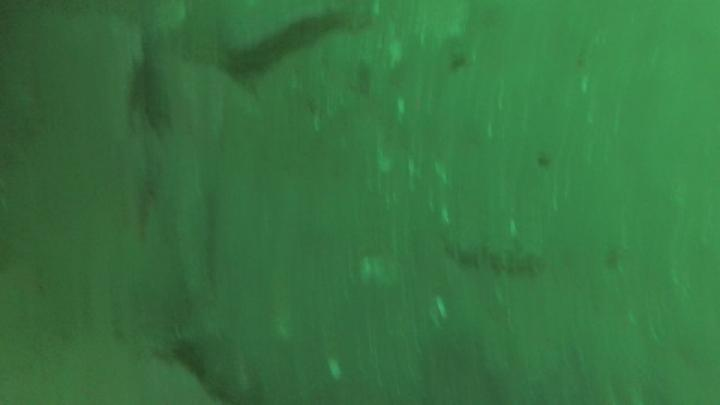holothurian: (436, 223, 554, 281)
